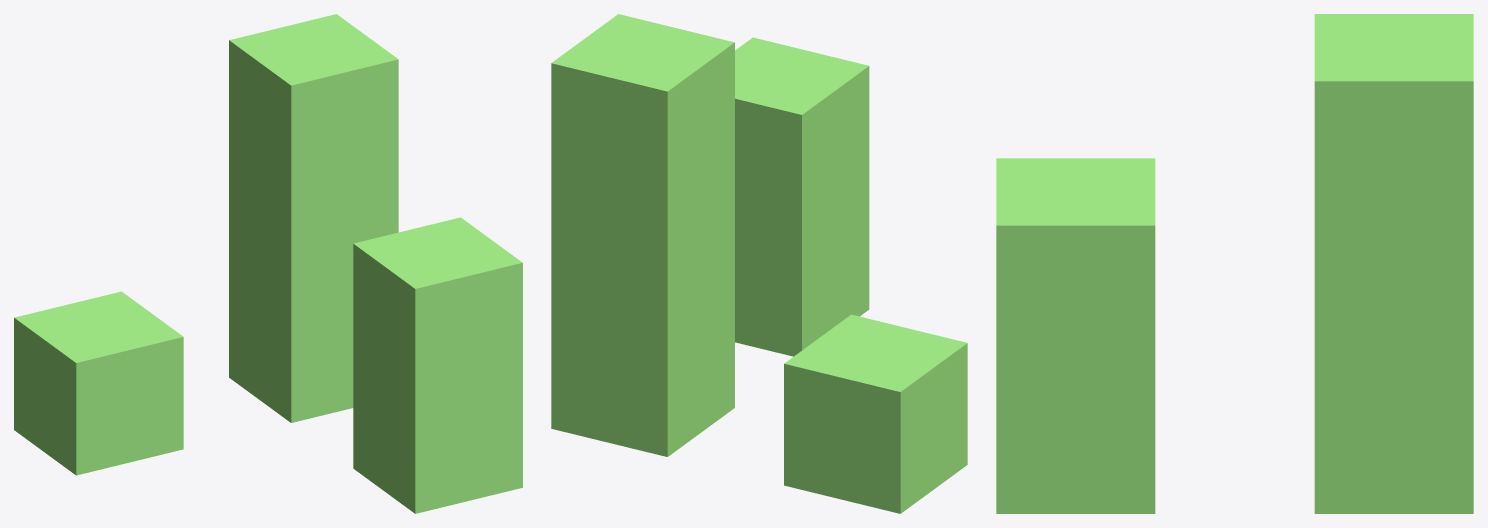
The model's file is grass1.obj.
The picture shows the model from 3 angles, left to right: view 1: azimuth 30°, elevation 25°; view 2: azimuth 150°, elevation 25°; view 3: azimuth 270°, elevation 25°; orthographic projection. The views are drawn at different scales.
Visible parts, largest first — view 1: PlumpStandardMushroom_22; view 2: PlumpStandardMushroom_22; view 3: PlumpStandardMushroom_22.
Boxes of the visible parts, x1=… form: PlumpStandardMushroom_22: x1=14, y1=14, x2=522, y2=513; PlumpStandardMushroom_22: x1=551, y1=14, x2=967, y2=513; PlumpStandardMushroom_22: x1=996, y1=14, x2=1473, y2=513.
Bounding box in the file's own units: 3 × 3 × 3.
1 material, 1 textured.
